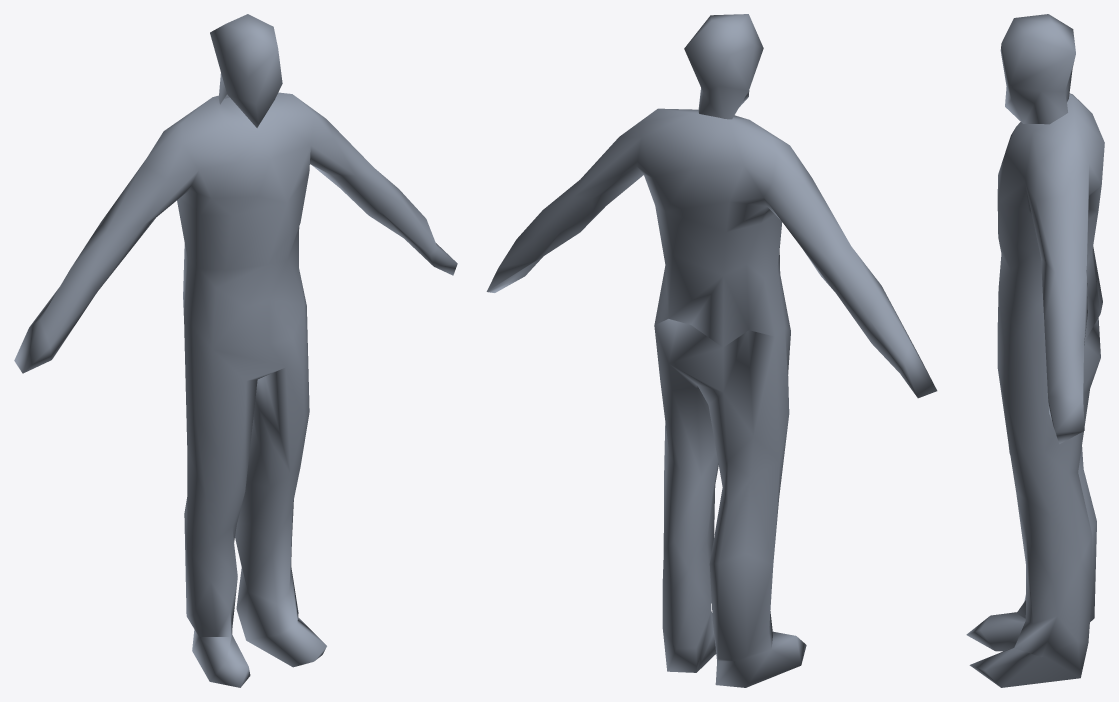
Rendered from corpse1_reference_lod2.obj.
The picture shows the model from 3 angles, left to right: view 1: azimuth 30°, elevation 25°; view 2: azimuth 150°, elevation 25°; view 3: azimuth 270°, elevation 25°; orthographic projection. The views are drawn at different scales.
Bounding box in the file's own units: 51.92 × 72.46 × 14.22.
